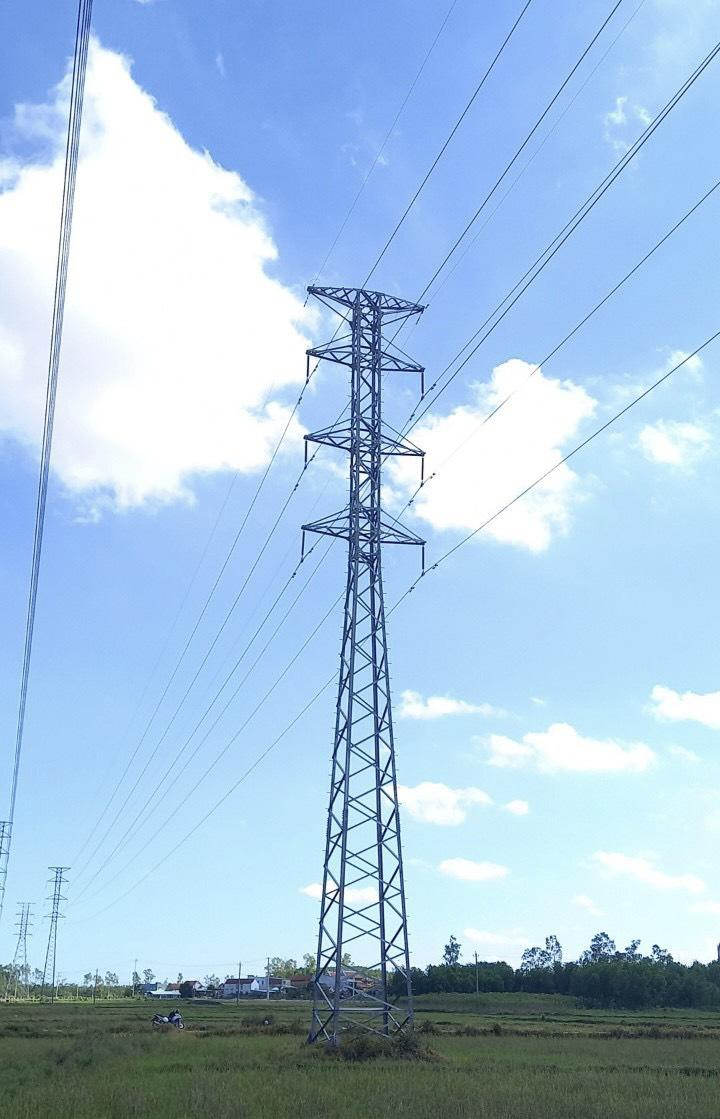power_tower: (295, 267, 423, 1040)
